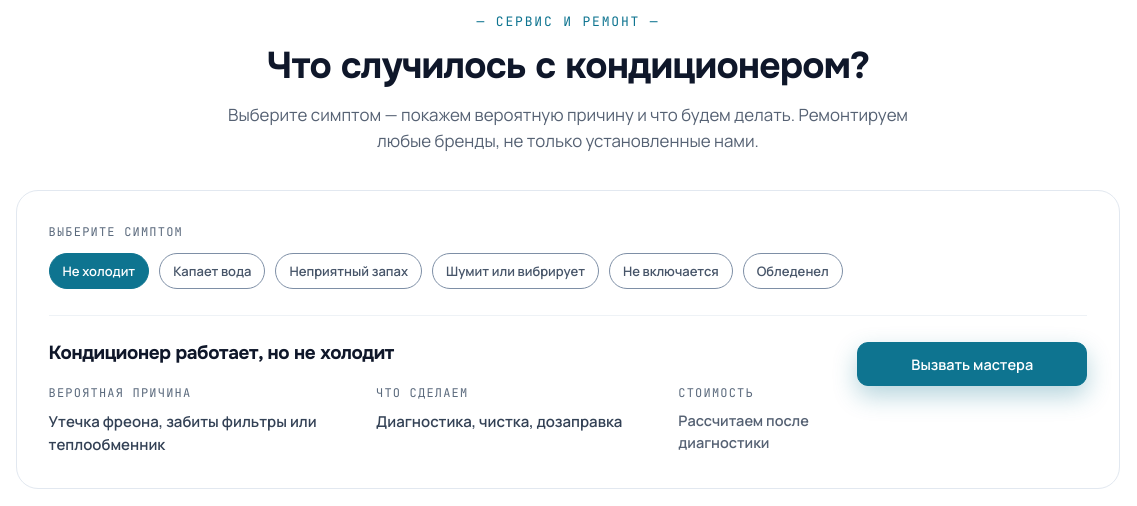
Test: Сервис — диагностика по симптомам › все разборы лежат в разметке независимо от выбора — это индексируемый текст
Check: the heading "Кондиционер работает, но не холодит" is shown, box [49,341,394,365]
Check: the text "Утечка фреона, забиты фильтры или теплообменник" is shown, box [49,410,350,456]
What coordinates should you click on to do the following:
click the button "Не включается"
I would click on:
 (671, 271)
Its box is [609,253,733,289].
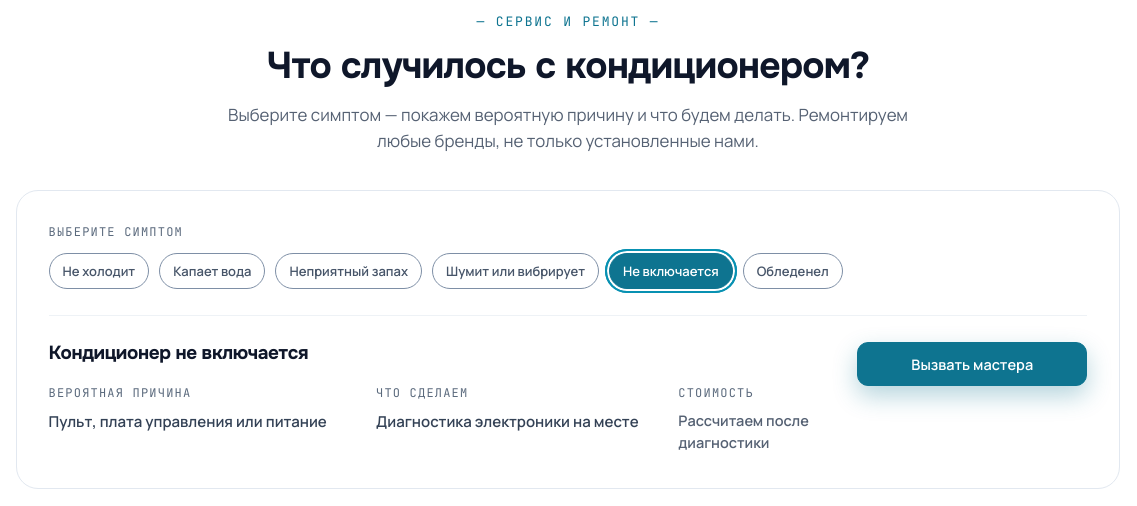
Check: the heading "Кондиционер не включается" is shown, box [49,341,308,365]
Check: the text "Пульт, плата управления или питание" is shown, box [49,410,350,433]
Check: the text "Диагностика электроники на месте" is shown, box [376,410,652,433]
